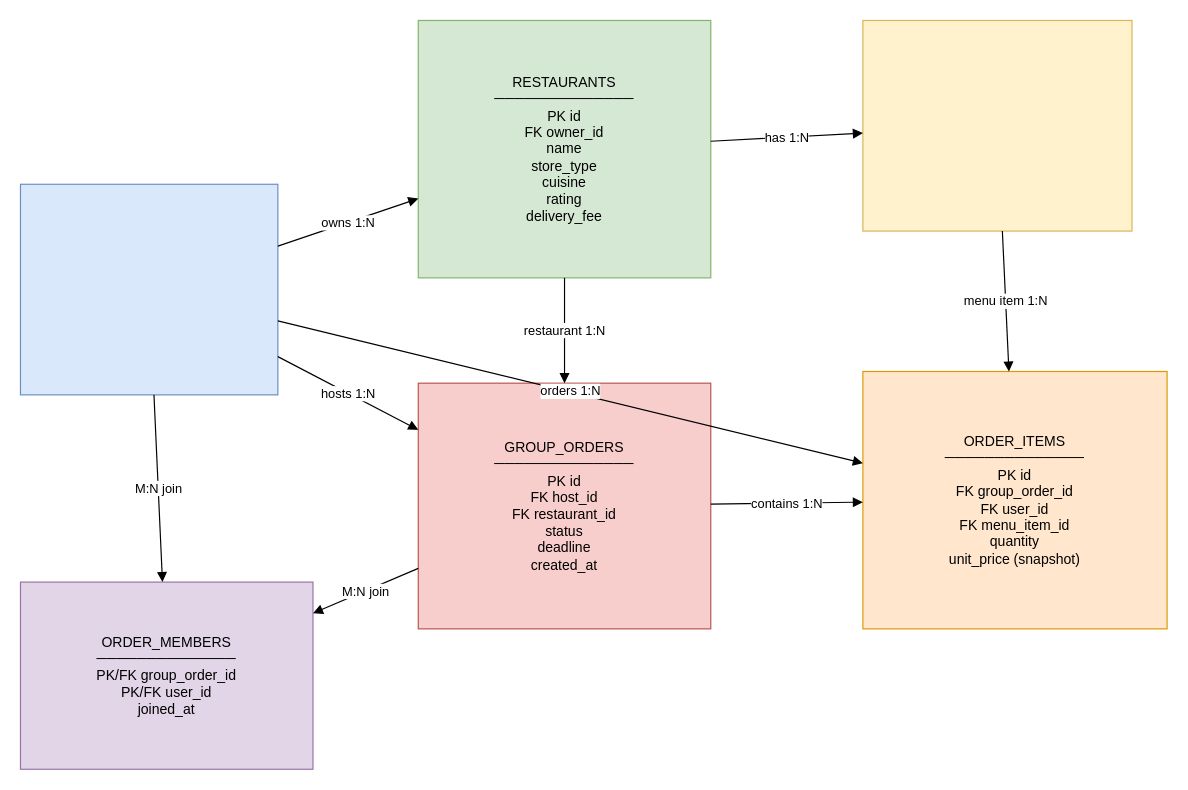
Image size: 1188x790. Some labels were removed from this diagram. Each missing label, with the box of its shape:
MENU_ITEMS ────────────── PK id FK restaurant_id name price is_available: (862, 19, 1132, 231)
USERS ────────────── PK id name email (UK) password_hash created_at: (19, 183, 278, 395)
